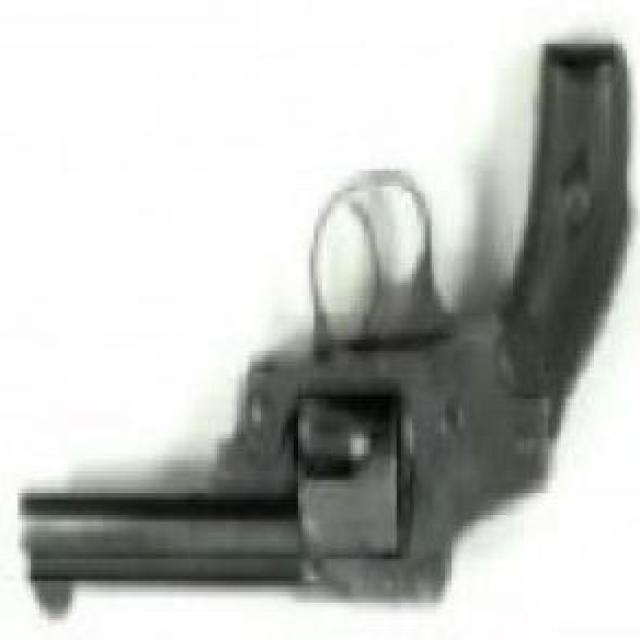pistol: (31, 38, 639, 610)
